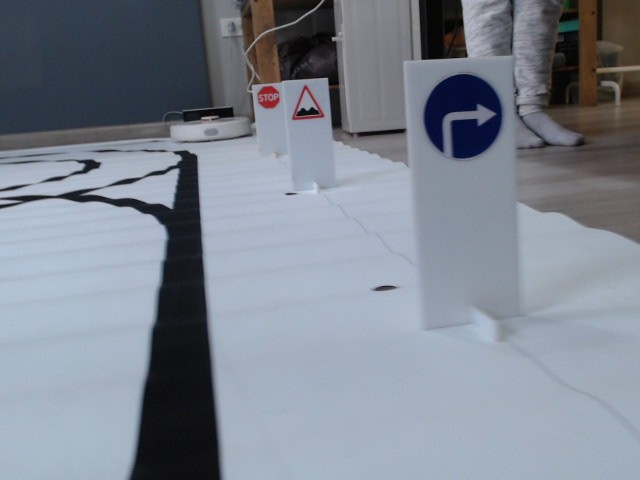Nerov: (291, 84, 324, 120)
Right: (422, 71, 505, 160)
Stop: (256, 85, 281, 109)
